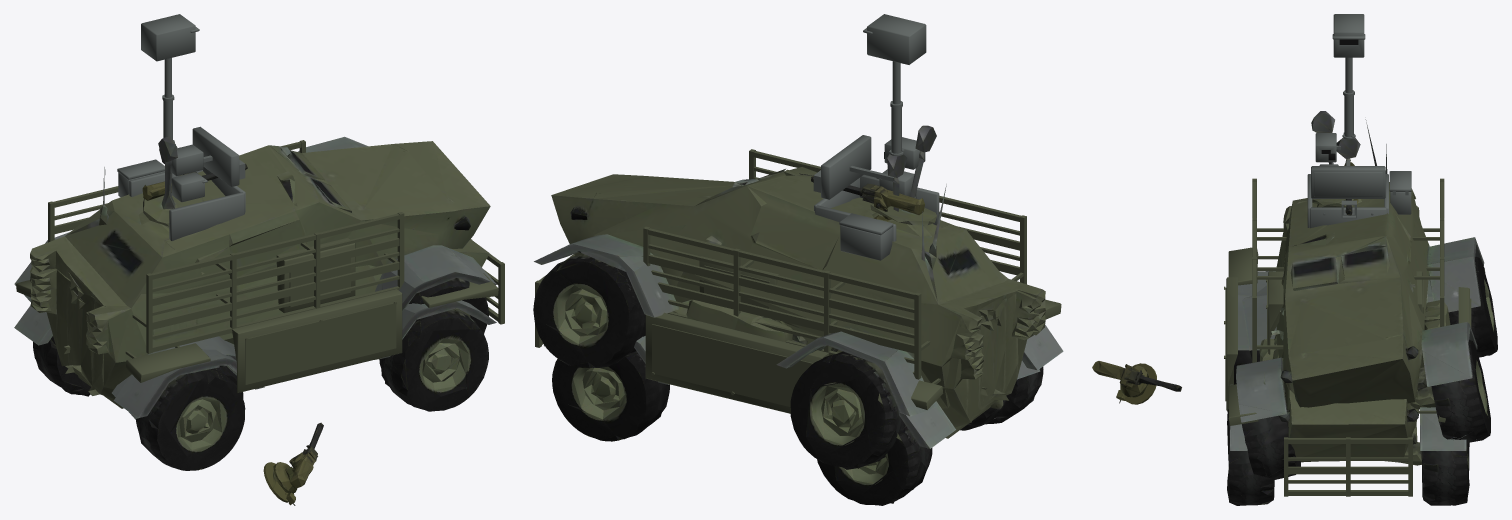
Rendered from scout_shachaf.glb.
3 renders of one model, left to right at view 1: azimuth 30°, elevation 25°; view 2: azimuth 150°, elevation 25°; view 3: azimuth 270°, elevation 25°, orthographic. The views are drawn at different scales.
Visible parts, largest first — view 1: WRECK_hull_hull, hull_rubber, hull_hull, kit_armour_2_hull_hull, kit_armour_3_hull_hull, kit_armour_3_hull_hull_near, WRECK_hull_rubber, kit_armour_3_hull_hull_far, kit_firepower_3_turret_metal, kit_sensors_3_hull_hull, kit_armour_1_hull_hull, kit_sensors_2_hull_hull (+5 smaller); view 2: WRECK_hull_hull, WRECK_hull_rubber, hull_rubber, kit_armour_2_hull_hull, hull_hull, kit_armour_3_hull_hull, kit_armour_3_hull_hull_far, kit_armour_3_hull_hull_near, kit_sensors_3_hull_hull, kit_sensors_2_hull_hull, kit_firepower_2_turret_metal, kit_firepower_3_turret_metal (+2 smaller); view 3: WRECK_hull_hull, WRECK_hull_rubber, hull_hull, hull_rubber, kit_armour_3_hull_hull, kit_armour_2_hull_hull, kit_sensors_2_hull_hull, kit_sensors_3_hull_hull, WRECK_turret_metal, kit_firepower_3_turret_metal, kit_armour_3_hull_hull_near, kit_armour_1_hull_hull (+3 smaller).
Part boxes in pixels (x1,y1,x2,y2): WRECK_hull_hull: (14, 136, 496, 419); hull_rubber: (33, 300, 488, 470); hull_hull: (14, 146, 496, 418); kit_armour_2_hull_hull: (16, 273, 498, 392); kit_armour_3_hull_hull: (48, 140, 504, 353); kit_armour_3_hull_hull_near: (54, 203, 498, 339); WRECK_hull_rubber: (28, 136, 488, 398); kit_armour_3_hull_hull_far: (54, 217, 498, 329); kit_firepower_3_turret_metal: (129, 167, 245, 240); kit_sensors_3_hull_hull: (141, 14, 199, 142); kit_armour_1_hull_hull: (276, 238, 355, 312); kit_sensors_2_hull_hull: (192, 126, 239, 186); WRECK_hull_hull: (534, 125, 1041, 416); WRECK_hull_rubber: (533, 234, 1006, 469); hull_rubber: (544, 341, 1043, 505); kit_armour_2_hull_hull: (645, 299, 1061, 413); hull_hull: (565, 154, 1063, 448); kit_armour_3_hull_hull: (535, 149, 1026, 379); kit_armour_3_hull_hull_far: (648, 177, 1019, 353); kit_armour_3_hull_hull_near: (648, 166, 1019, 363); kit_sensors_3_hull_hull: (863, 14, 926, 156); kit_sensors_2_hull_hull: (821, 135, 893, 199); kit_firepower_2_turret_metal: (813, 170, 893, 260); kit_firepower_3_turret_metal: (814, 174, 939, 241); WRECK_hull_hull: (1237, 111, 1486, 479); WRECK_hull_rubber: (1236, 237, 1497, 476); hull_hull: (1230, 137, 1465, 505); hull_rubber: (1227, 271, 1469, 505); kit_armour_3_hull_hull: (1252, 178, 1444, 496); kit_armour_2_hull_hull: (1224, 247, 1471, 425); kit_sensors_2_hull_hull: (1311, 160, 1385, 198); kit_sensors_3_hull_hull: (1332, 14, 1365, 139); WRECK_turret_metal: (1116, 363, 1181, 404); kit_firepower_3_turret_metal: (1307, 174, 1388, 228); kit_armour_3_hull_hull_near: (1288, 457, 1408, 483); kit_armour_1_hull_hull: (1266, 271, 1423, 354).
Bounding box in the file's own units: 4.72 × 4.36 × 4.24.
Materials: 1 (1 with a texture image).
